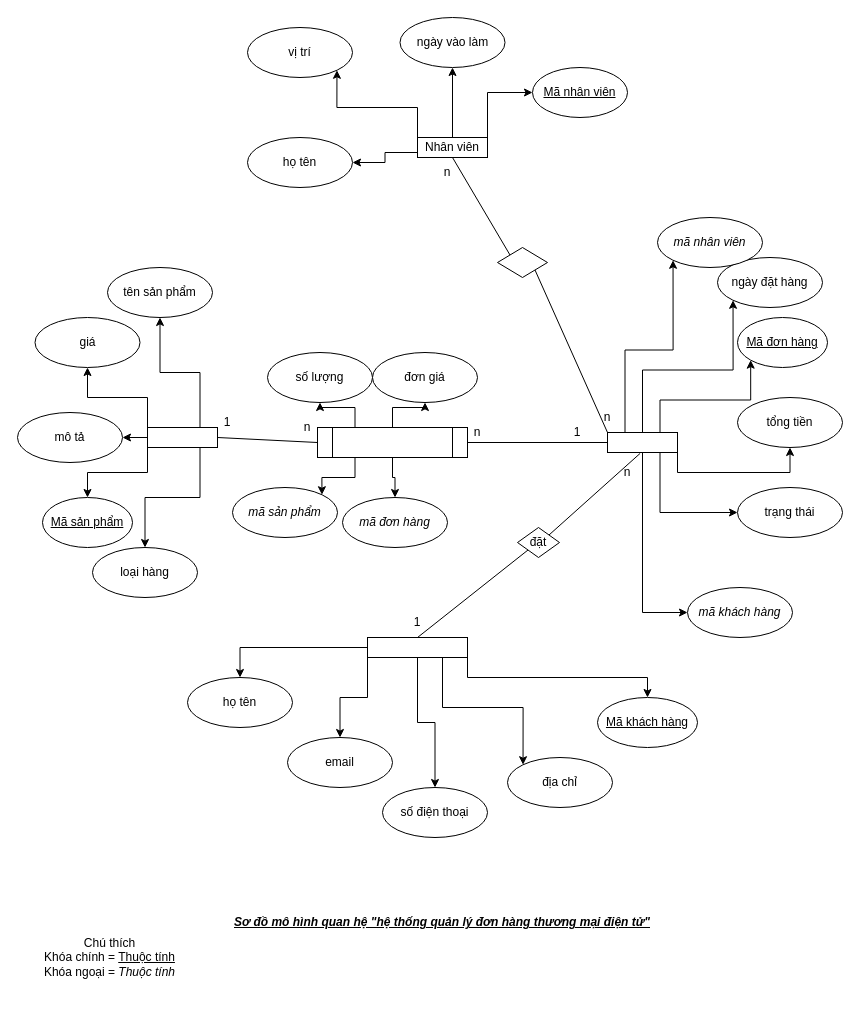
The diagram is 860 pixels wide and 1015 high, and some of its shapes have lost their labels. Here are the shapes that lost their labels. From the top down, the box of each, then its label:
(496, 246, 548, 278): xử lý
(146, 426, 218, 448): Sản phẩm
(316, 426, 468, 458): Chi tiết đơn hàng
(606, 432, 678, 452): Đơn hàng
(366, 636, 468, 658): Khách hàng
